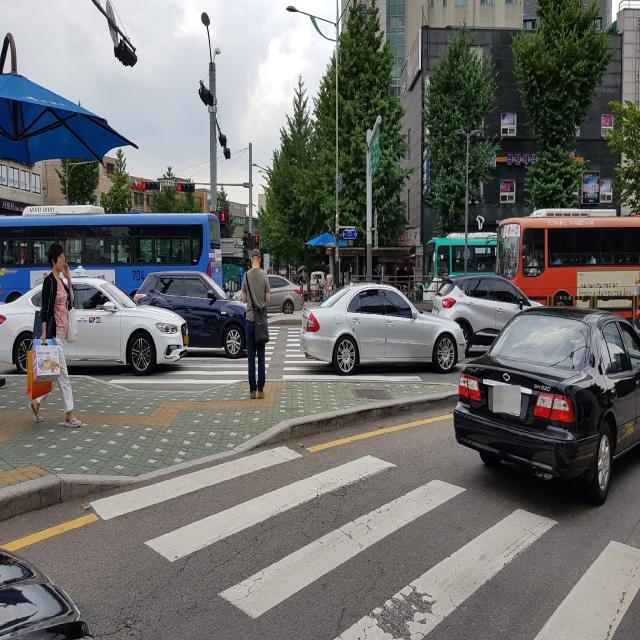빨간불: (220, 208, 227, 233), (255, 235, 259, 247)
횡단보도: (90, 443, 640, 639), (110, 313, 417, 388)
